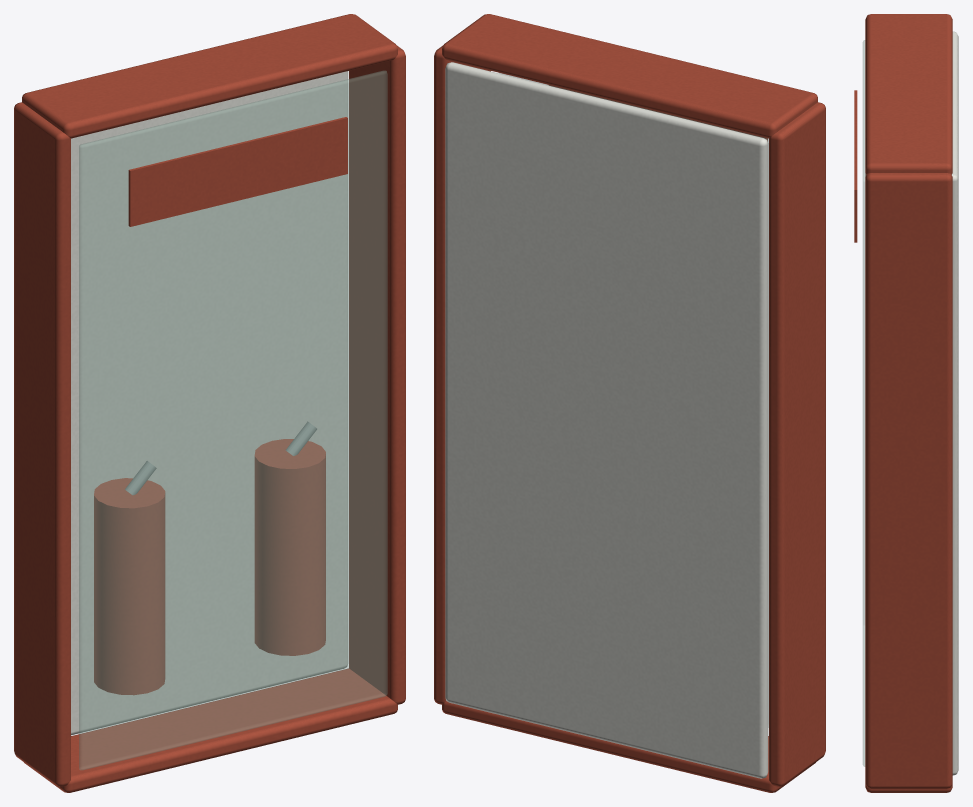
File: detail-fire-cabinet-0.glb
3 views of the same model, side by side, from view 1: azimuth 30°, elevation 25°; view 2: azimuth 150°, elevation 25°; view 3: azimuth 270°, elevation 25° (orthographic). The views are drawn at different scales.
Parts seen in each view (by area): view 1: glass, panel_back, frame_side (×2), frame_rail (×2), extinguisher (×2), label_safety; view 2: panel_back, frame_side (×2), frame_rail (×2), glass; view 3: frame_side, frame_rail (×2), panel_back, glass, label_safety.
Part boxes in pixels (x1=…): glass: x1=79, y1=71, x2=387, y2=769; panel_back: x1=71, y1=71, x2=348, y2=735; frame_side (×2): x1=14, y1=45, x2=405, y2=786; frame_rail (×2): x1=22, y1=14, x2=397, y2=792; extinguisher (×2): x1=94, y1=439, x2=325, y2=695; label_safety: x1=128, y1=117, x2=347, y2=226; panel_back: x1=445, y1=62, x2=768, y2=778; frame_side (×2): x1=434, y1=45, x2=825, y2=786; frame_rail (×2): x1=442, y1=14, x2=817, y2=792; glass: x1=499, y1=73, x2=768, y2=727; frame_side: x1=865, y1=173, x2=952, y2=788; frame_rail (×2): x1=865, y1=14, x2=952, y2=792; panel_back: x1=952, y1=31, x2=958, y2=775; glass: x1=863, y1=40, x2=865, y2=766; label_safety: x1=854, y1=90, x2=857, y2=242.
Size of the model in its own units: 0.785 by 1.44 by 0.2155.
Materials: 4 (3 with a texture image).
